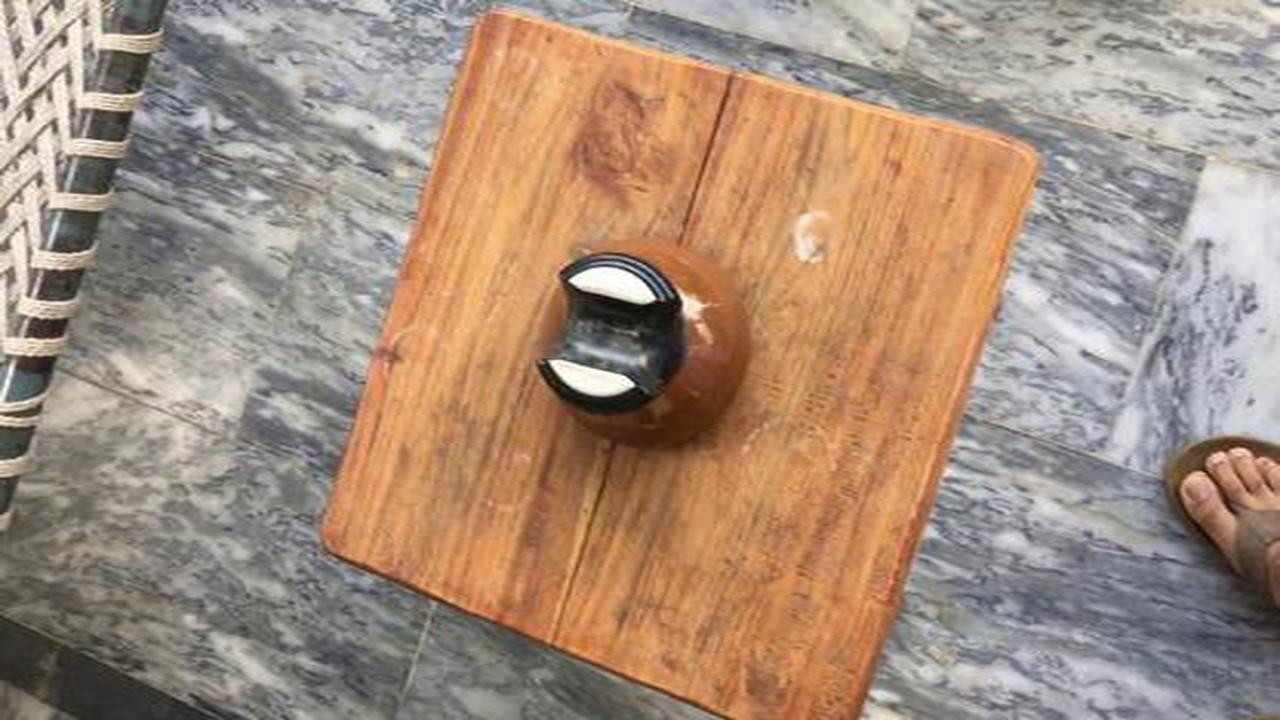insulator_pin: (511, 223, 791, 456)
